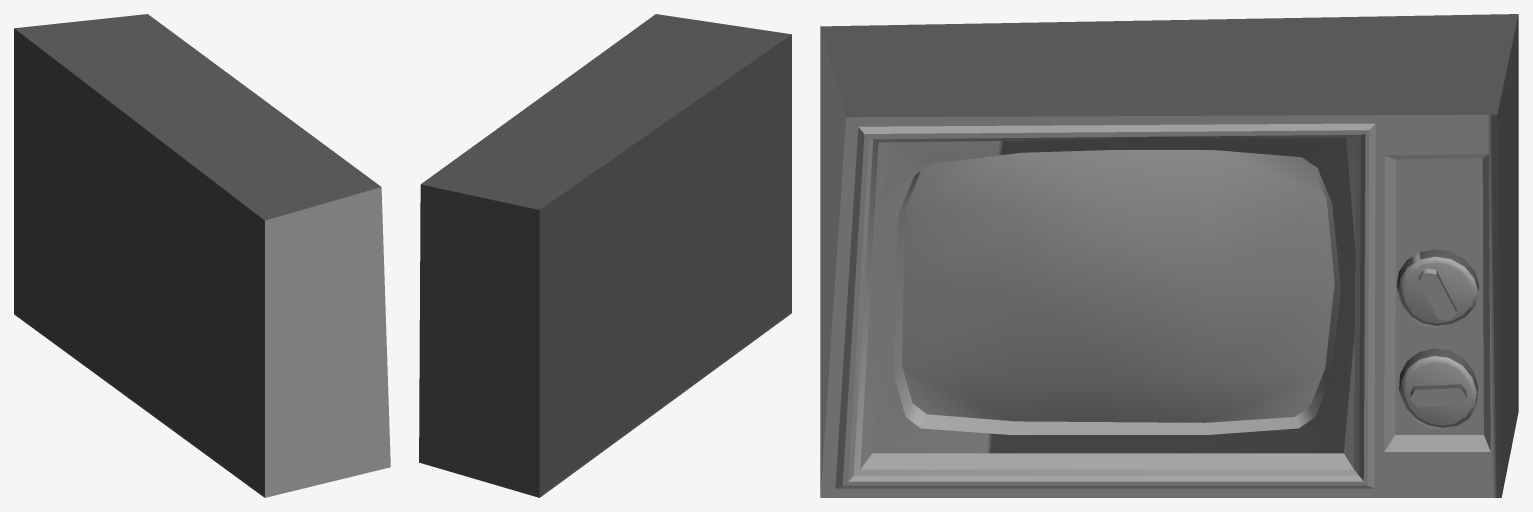
Rendered from SM_tele.fbx.
3 renders of one model, left to right at view 1: azimuth 30°, elevation 25°; view 2: azimuth 150°, elevation 25°; view 3: azimuth 270°, elevation 25°, orthographic. The views are drawn at different scales.
Visible parts, largest first — view 1: SM_tele; view 2: SM_tele; view 3: SM_tele.
Part boxes in pixels (x1,y1,x2,y2): SM_tele: [14, 14, 390, 497]; SM_tele: [419, 14, 791, 497]; SM_tele: [820, 14, 1518, 497].
Bounding box in the file's own units: 0.2976 × 0.6061 × 0.9624.
1 material, 1 textured.
